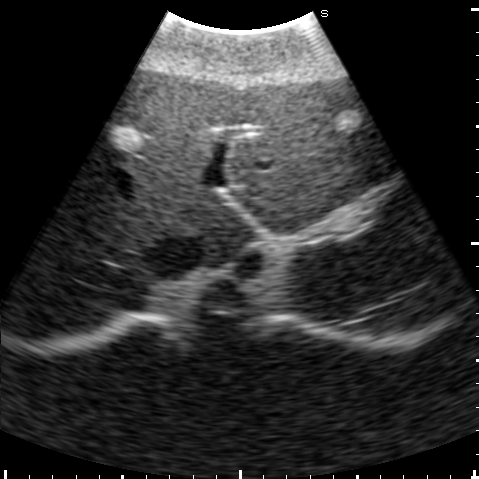IVC: (140, 234, 203, 277)
S1: (190, 196, 255, 266)
S2: (229, 151, 399, 234)
S3: (220, 73, 391, 205)
Tumor: (333, 110, 361, 133)
